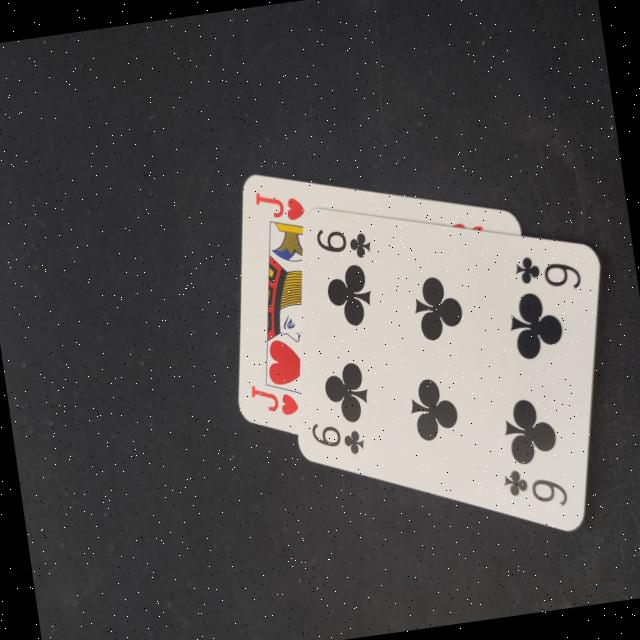6c: (496, 454, 575, 518), (510, 245, 588, 302), (238, 372, 306, 426), (311, 215, 378, 268), (246, 178, 313, 228), (305, 414, 373, 462)
